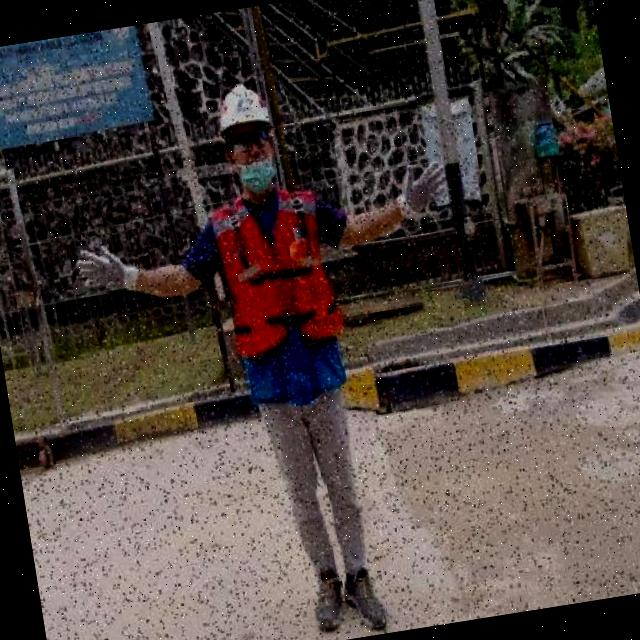boots: (340, 563, 390, 636), (306, 563, 349, 636)
helmet: (212, 79, 274, 135)
vest: (201, 175, 364, 415)
